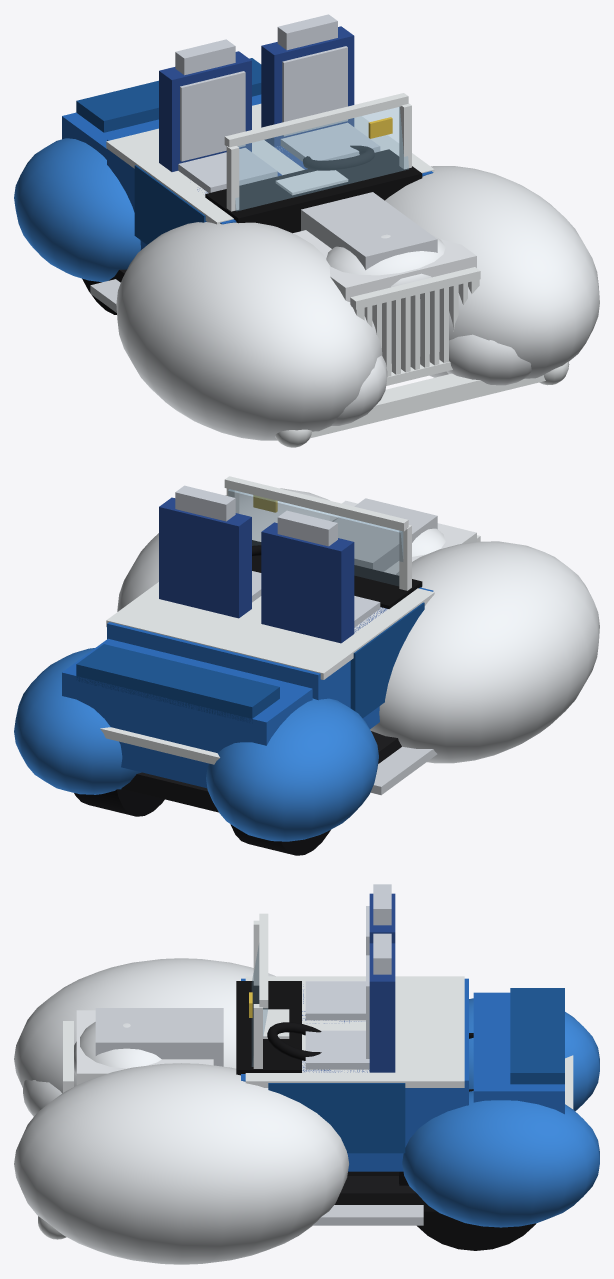
Rendered from hotrod.glb.
3 renders of one model, top to bottom at view 1: azimuth 30°, elevation 25°; view 2: azimuth 150°, elevation 25°; view 3: azimuth 270°, elevation 25°, orthographic.
Parts seen in each view (by area): view 1: cart-hotrod; view 2: cart-hotrod; view 3: cart-hotrod.
Boxes of the visible parts, x1,y1,x2,y2 form: cart-hotrod: (14,14,599,447); cart-hotrod: (14,476,599,855); cart-hotrod: (14,884,599,1264).
Bounding box in the file's own units: 2.65 × 1.69 × 3.21.
